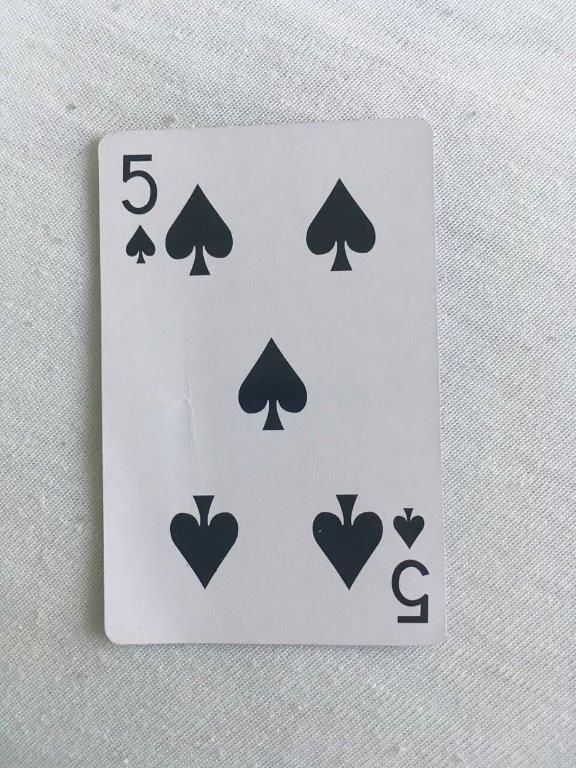5S: (93, 116, 451, 650)
